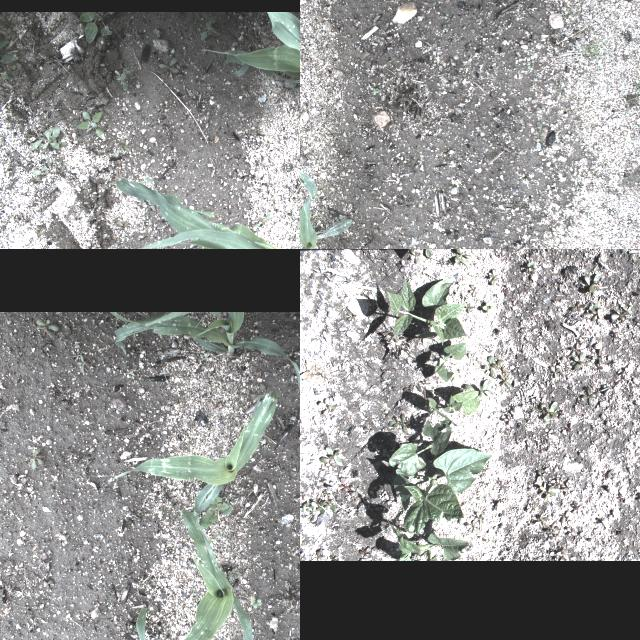crop: (112, 388, 278, 514), (124, 511, 252, 640), (107, 312, 300, 392), (103, 178, 300, 249), (202, 13, 300, 103), (392, 448, 492, 536), (386, 274, 472, 344), (300, 155, 355, 249), (388, 419, 452, 476), (386, 521, 469, 561), (422, 387, 482, 427), (434, 342, 466, 382)
weed: (74, 106, 110, 148), (70, 14, 114, 46), (200, 494, 234, 528), (27, 120, 63, 152), (3, 32, 23, 86), (300, 494, 336, 515), (154, 56, 188, 76), (583, 41, 607, 67), (111, 68, 133, 92), (34, 318, 58, 340), (388, 412, 412, 433), (628, 67, 640, 107), (319, 446, 343, 466), (484, 356, 504, 378), (578, 386, 600, 406), (538, 401, 558, 422), (570, 353, 592, 371), (316, 398, 338, 414), (582, 274, 600, 292), (28, 447, 44, 467), (538, 486, 556, 502), (74, 352, 88, 372), (453, 249, 470, 265), (478, 379, 492, 398), (610, 308, 628, 322), (487, 270, 501, 286), (481, 300, 497, 314), (248, 594, 262, 608), (549, 366, 561, 380), (396, 260, 410, 272), (408, 250, 420, 264), (349, 486, 363, 498), (592, 348, 602, 364), (356, 548, 372, 558), (590, 308, 602, 320), (500, 374, 510, 388), (227, 570, 239, 580), (570, 344, 580, 356), (466, 520, 476, 532), (127, 368, 135, 376)
